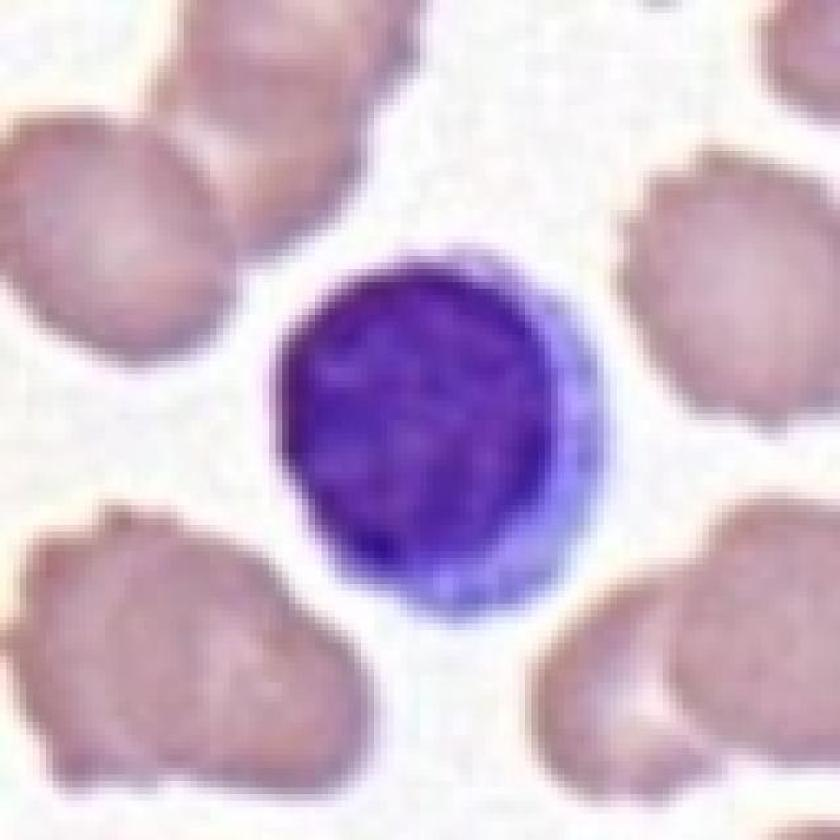lymphocyte: (269, 241, 615, 630)
